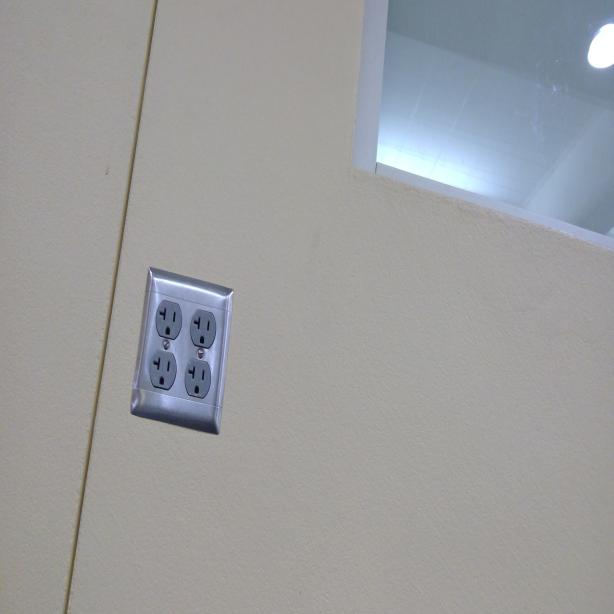typeb: (153, 296, 183, 343), (188, 304, 218, 348), (181, 354, 212, 396), (148, 349, 178, 392)
